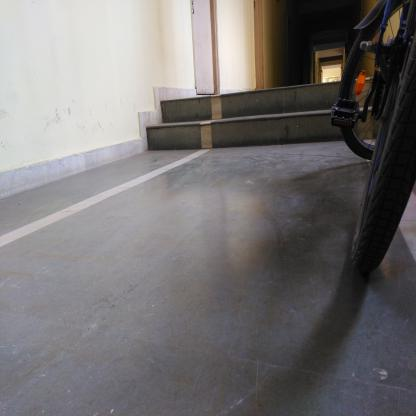stairs: (171, 92, 329, 152)
